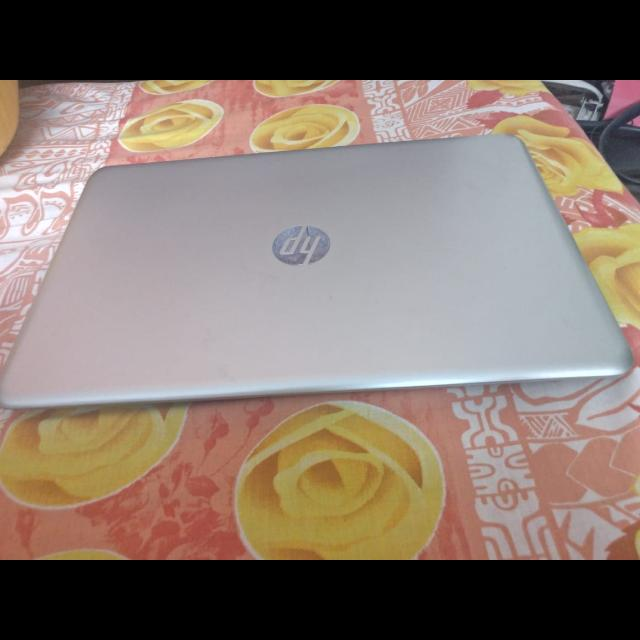Laptop: (1, 129, 636, 417)
